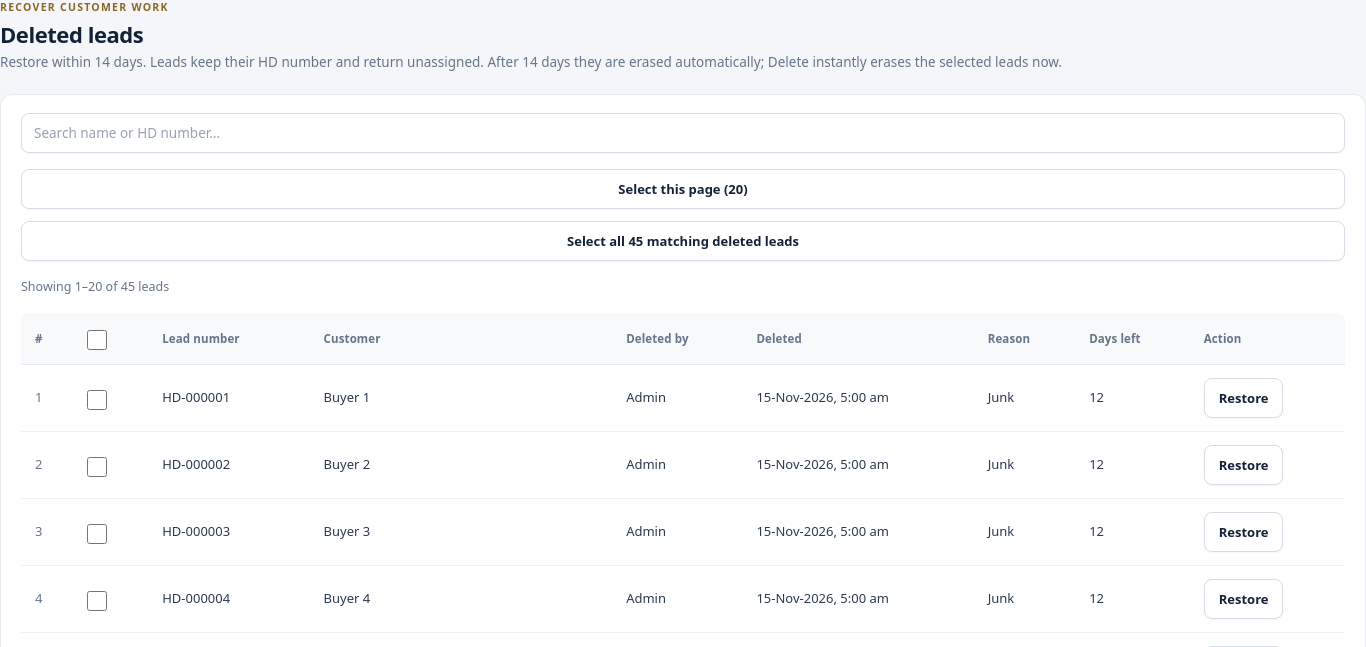
Test: Select all in Deleted leads (update 071) › clears the selection when the search changes, and selects only what the new search matches
Click the button "Select all 45 matching deleted leads": {"x": 683, "y": 241} [21,221,1345,261]
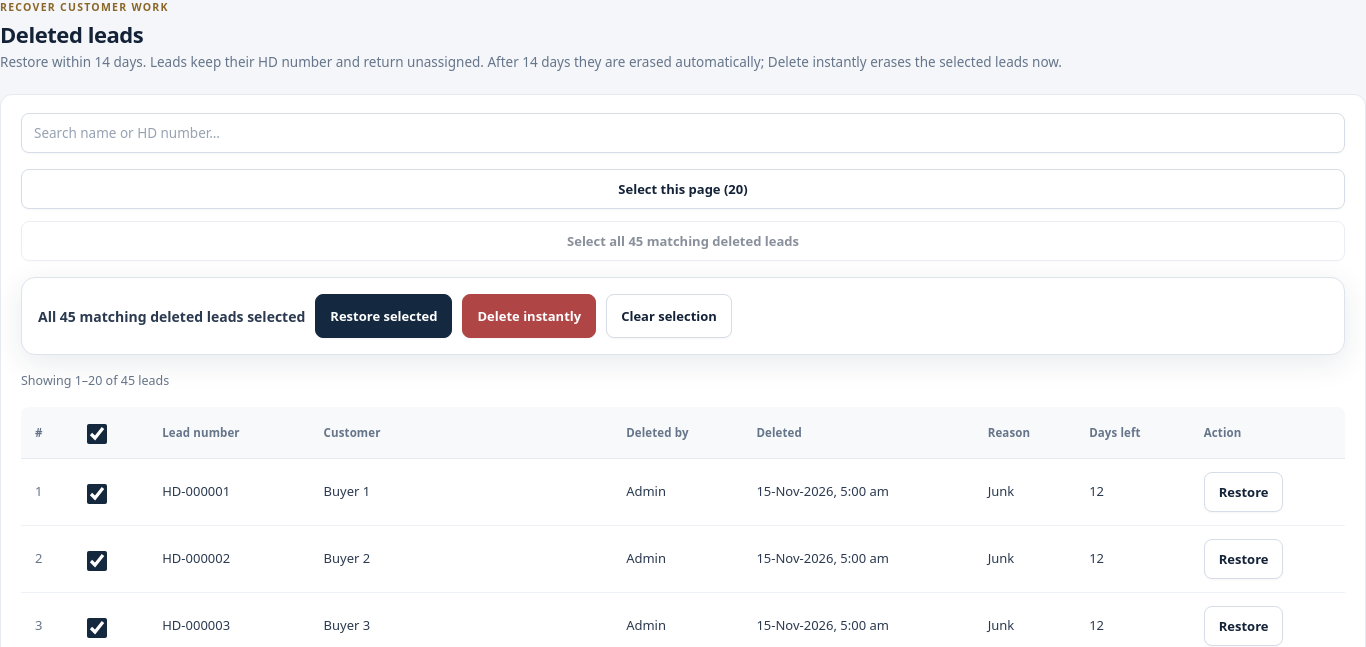
Expected: the element named "Selected deleted leads" shows "All 45", [38,307,305,326]
In the field named "Search deleted leads": {"x": 683, "y": 133} [21,113,1345,153], type "Buyer 1"
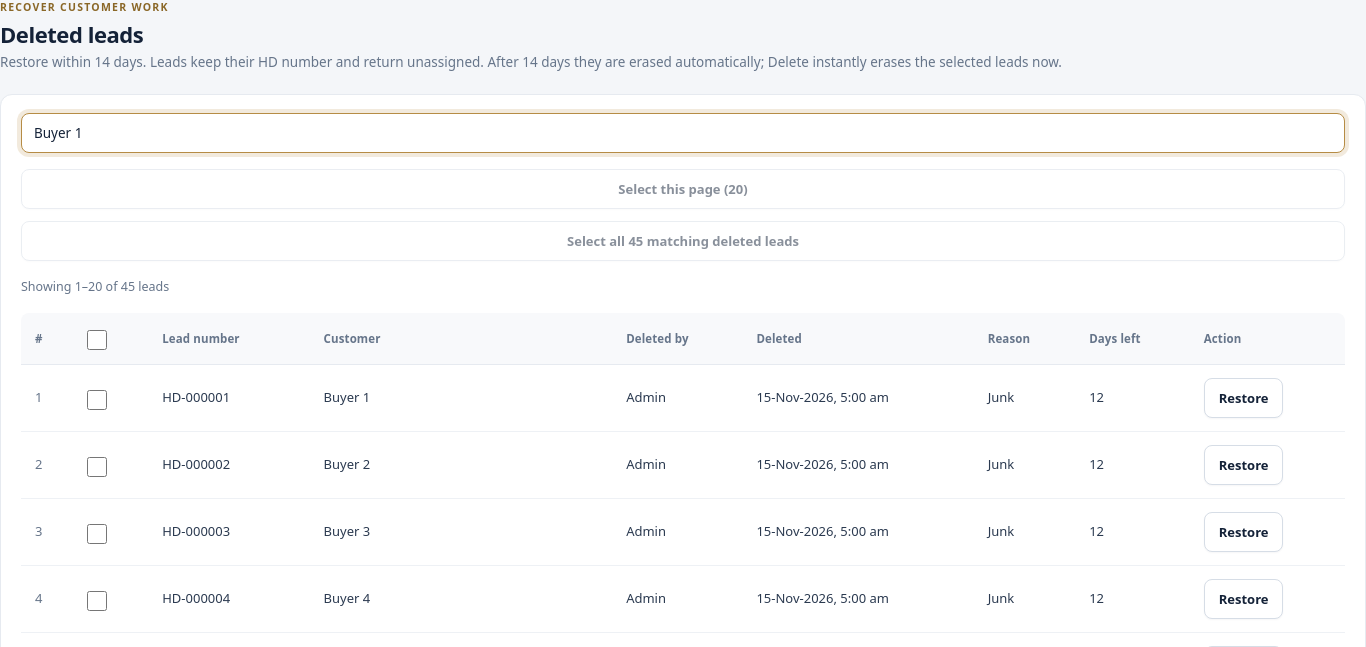
// Back to the first search: the old selection does not come back.
Clear the field named "Search deleted leads": {"x": 683, "y": 133} [21,113,1345,153]
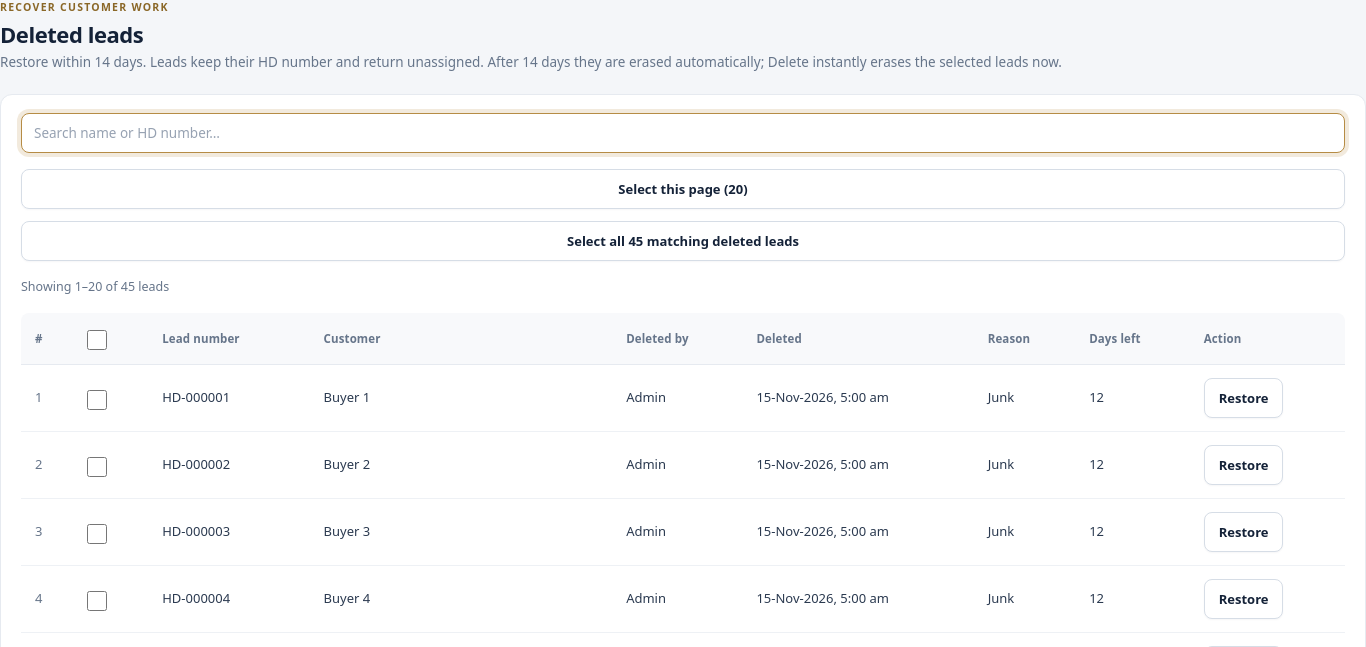
Expected: the button "Select all 45 matching deleted leads" is shown, [21,221,1345,261]
In the field named "Search deleted leads": {"x": 683, "y": 133} [21,113,1345,153], type "Buyer 1"
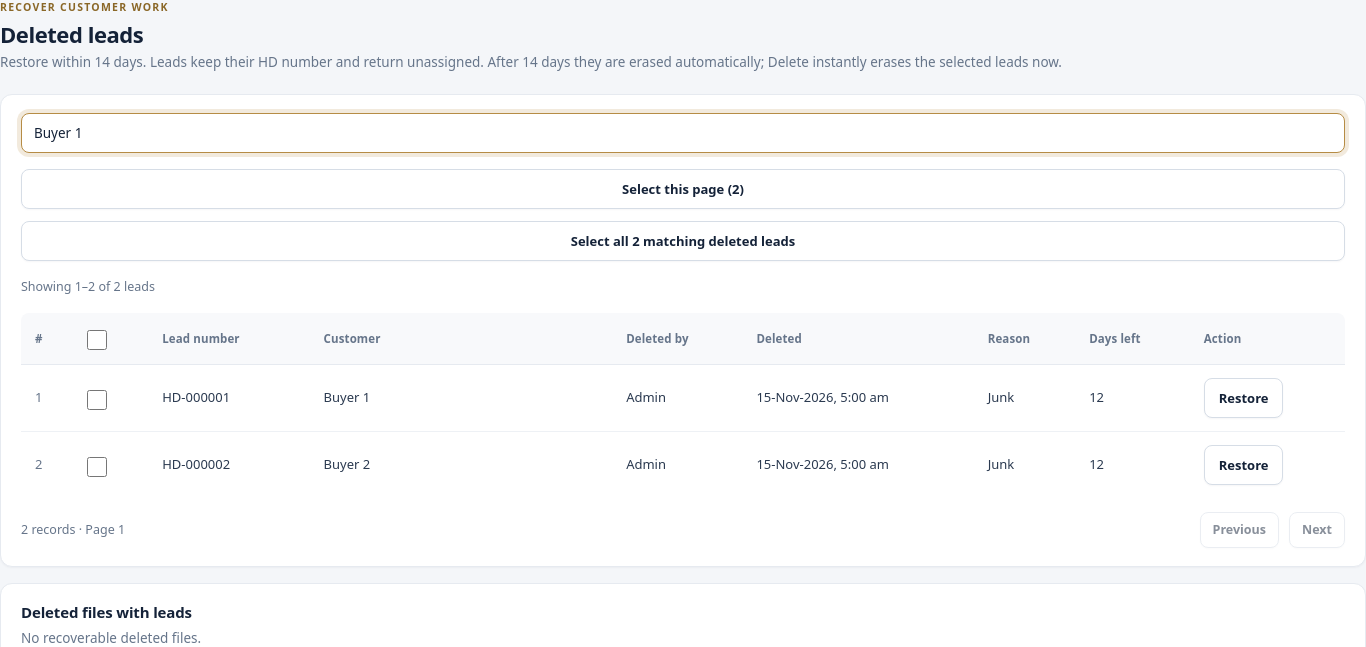
Click the button "Select all 2 matching deleted leads": {"x": 683, "y": 241} [21,221,1345,261]
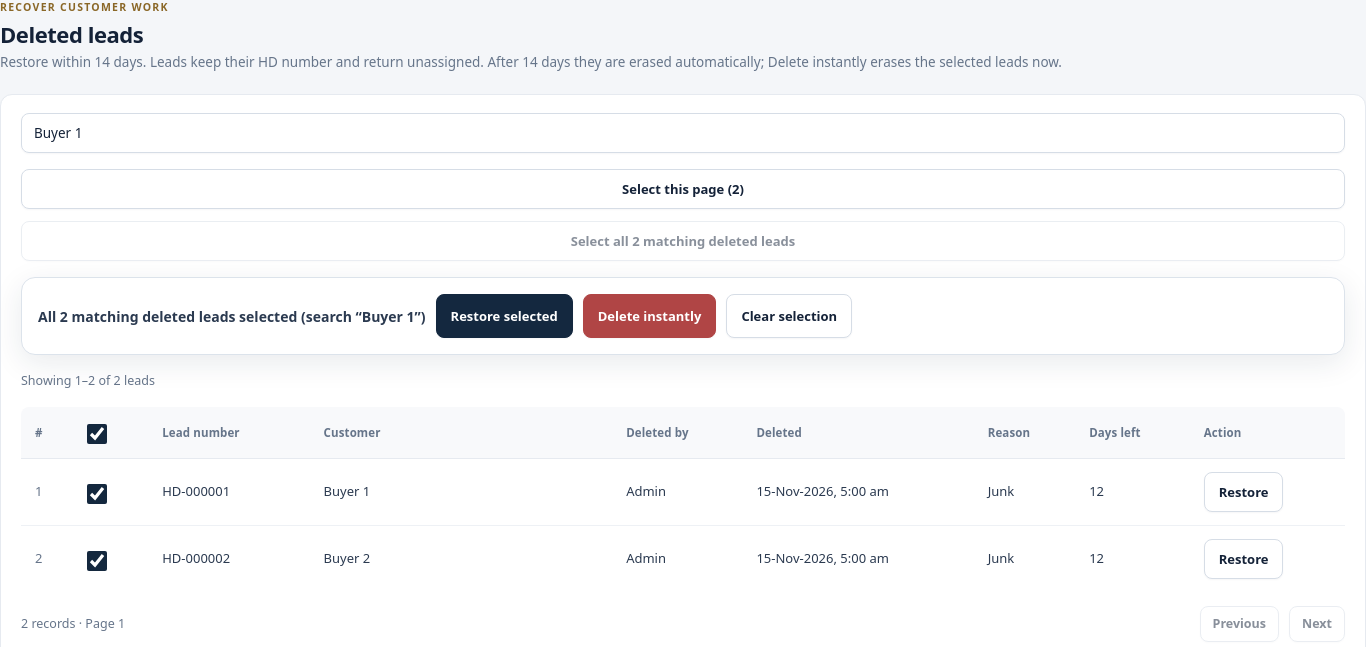
Expected: the element named "Selected deleted leads" shows "All 2 matching deleted leads selected (search “Buyer 1”)", [38,307,426,326]
